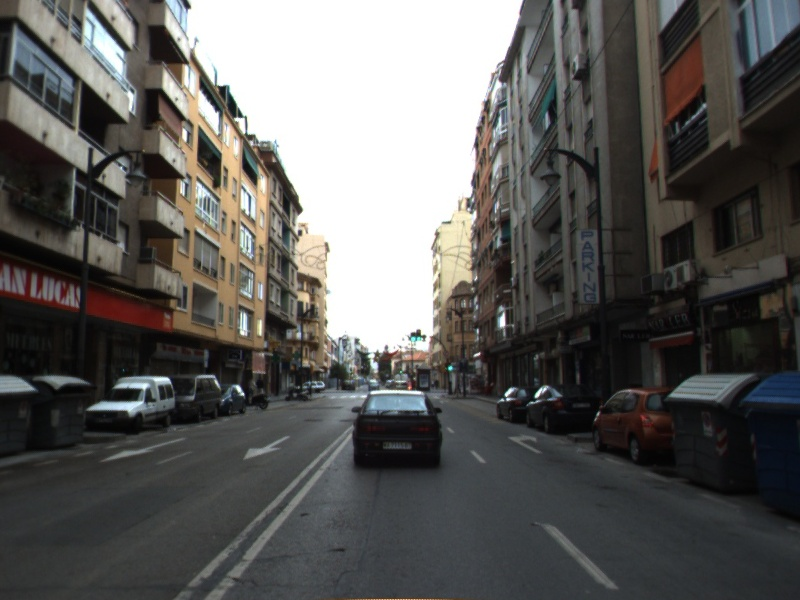RIGHT: (506, 432, 544, 455)
